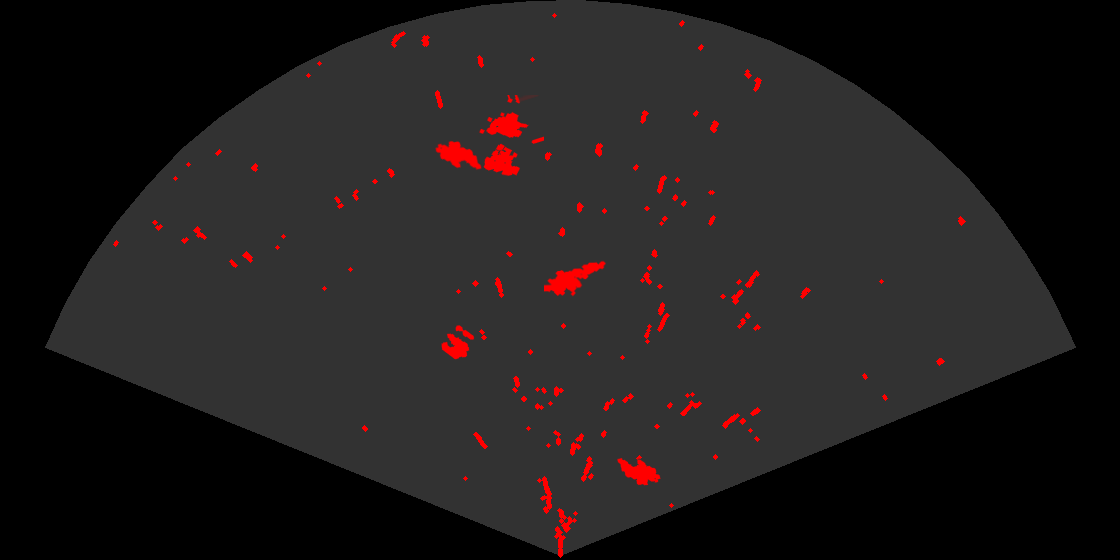AUV: (434, 139, 483, 172), (616, 456, 662, 487)
ball: (440, 324, 476, 361)
cage: (478, 95, 544, 178)
frogman: (544, 259, 607, 298)
